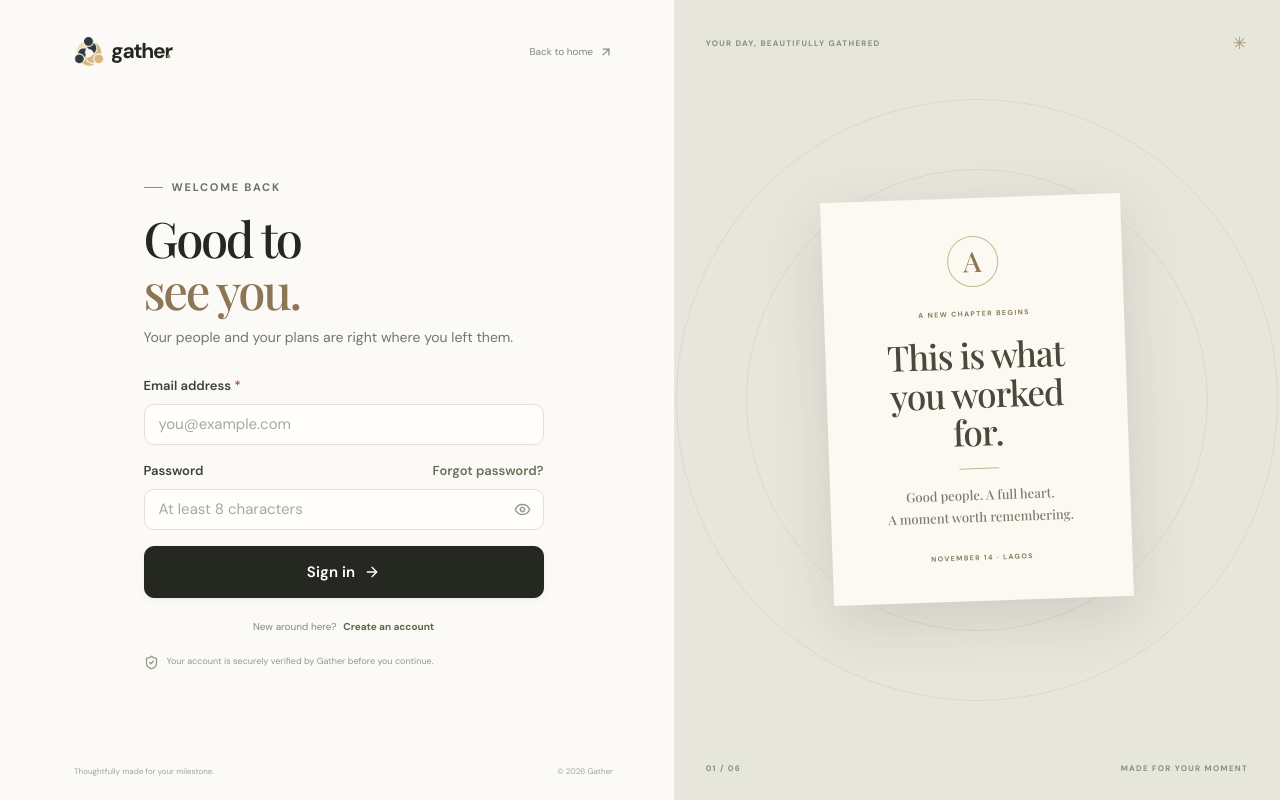
AuthPage › shows the API error when credentials are rejected
The image size is (1280, 800).
Type "ada@example.com" into the field labelled "Email address *". click: (344, 424)
box: [144,404,544,445]
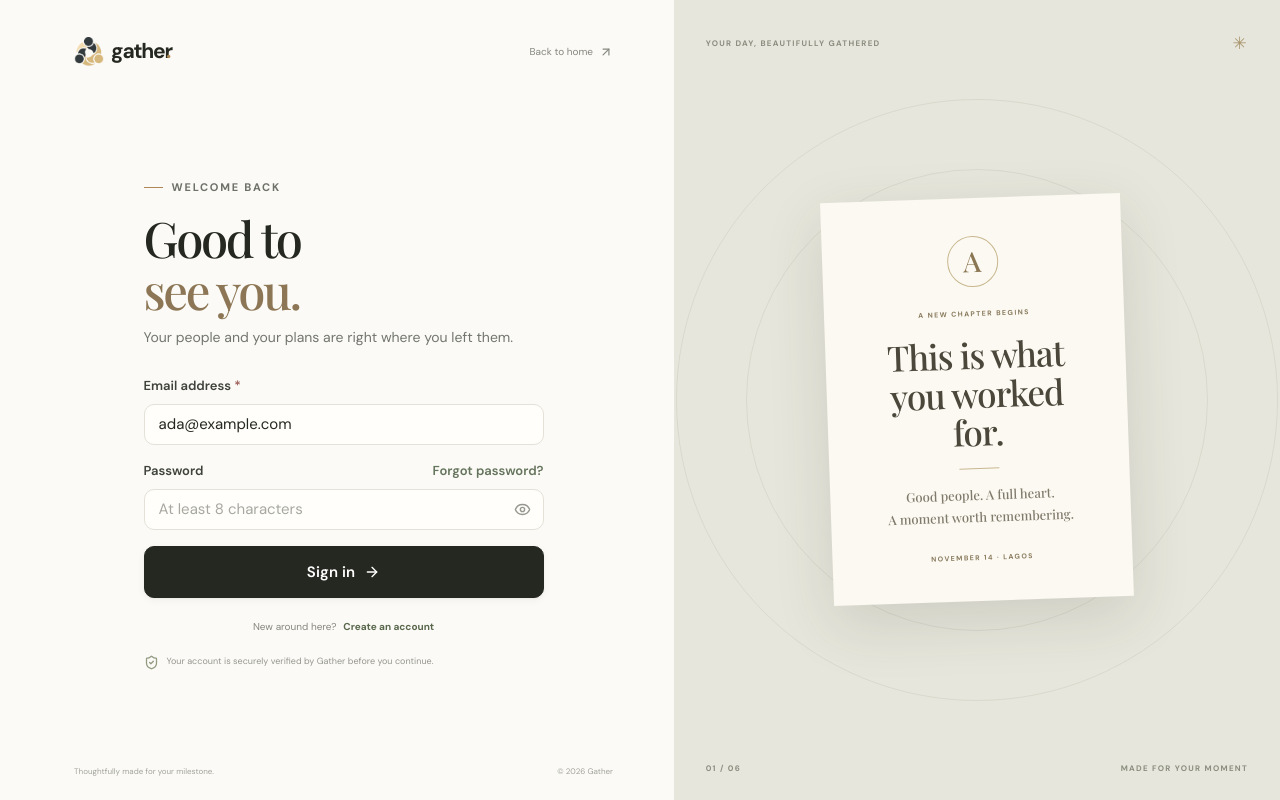
Type "wrong-password" into the password field labelled "Password". click: (344, 509)
box: [144,489,544,530]
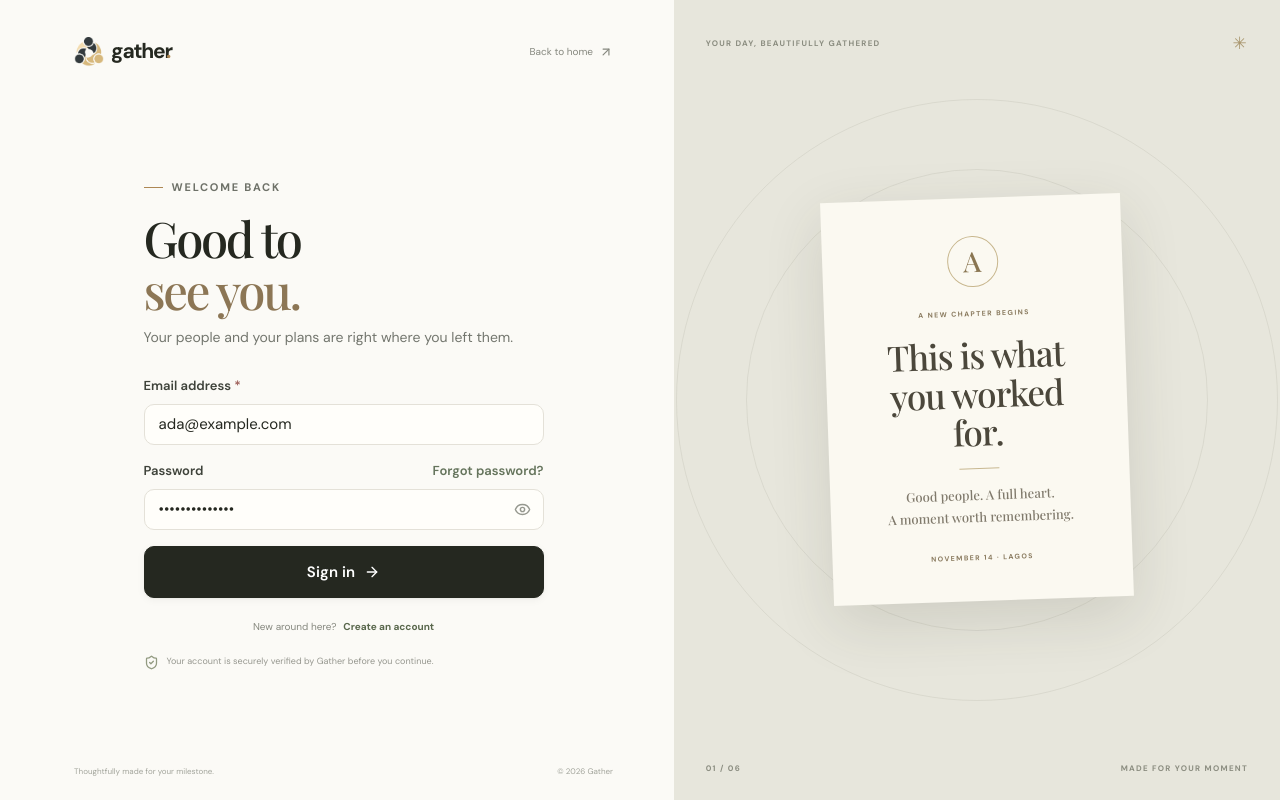
Click the button "Sign in". click: (344, 572)
box: [144,546,544,598]
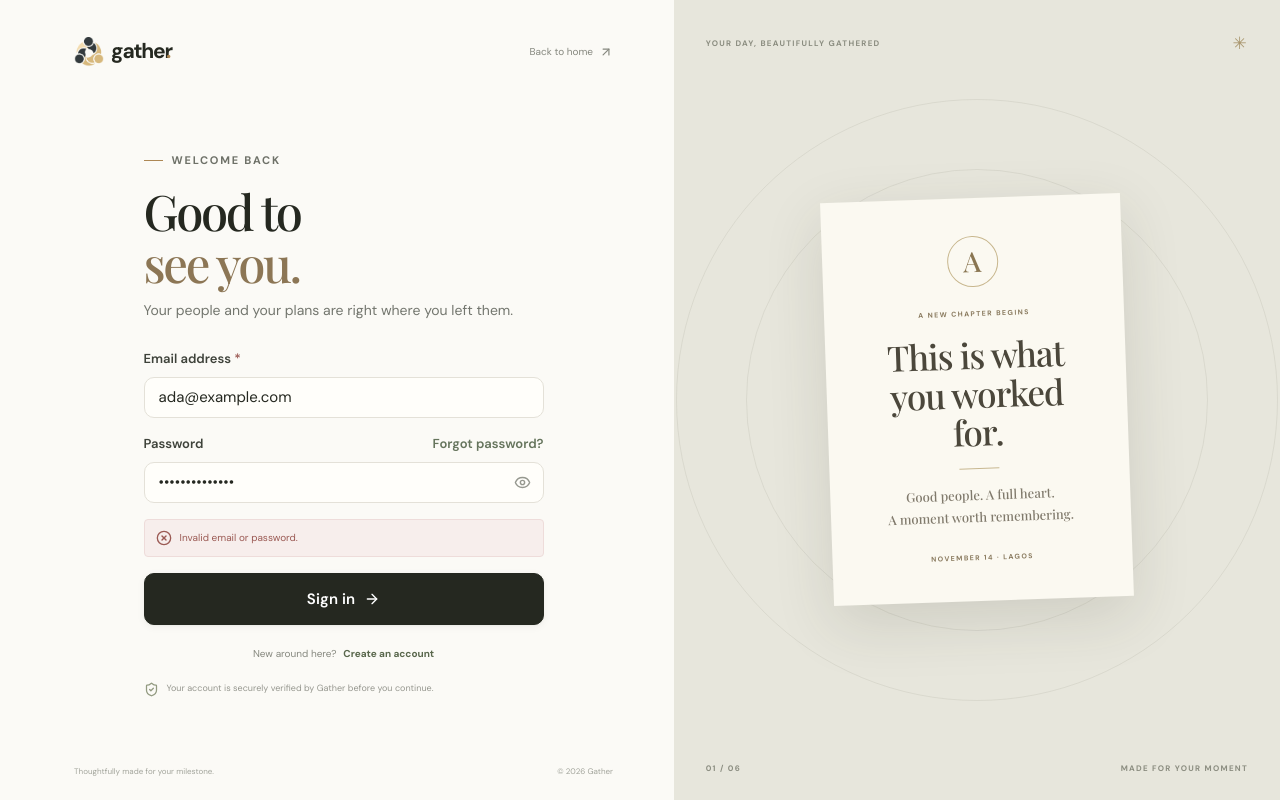
expect the text "Invalid email or password." is shown: met, box [144,519,544,557]
